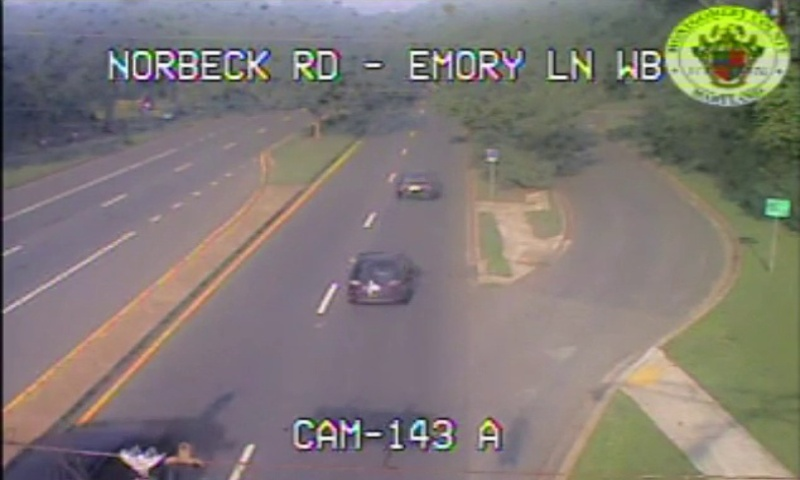car: (348, 252, 406, 302), (398, 173, 435, 197)
